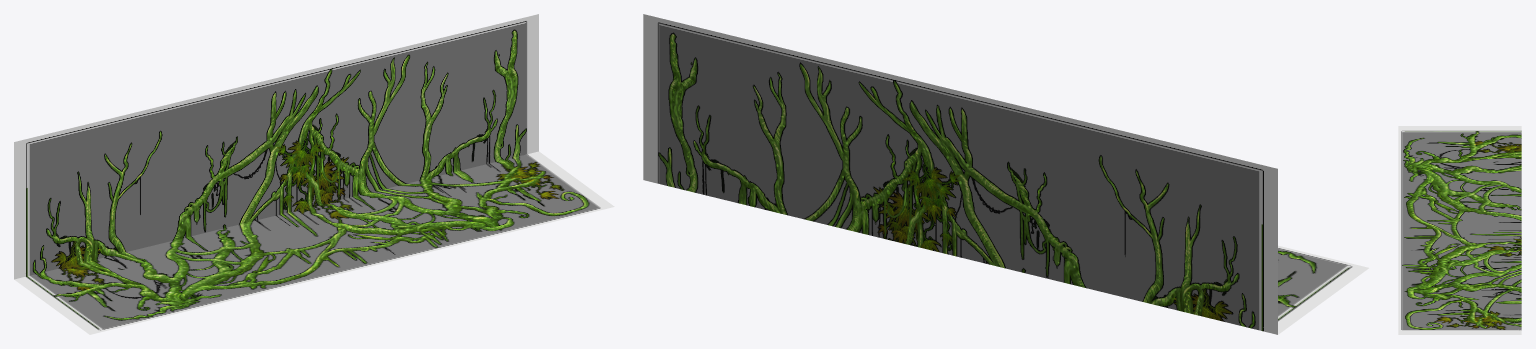
File: Lianas_Walls_2048x1024.fbx
3 views of the same model, side by side, from view 1: azimuth 30°, elevation 25°; view 2: azimuth 150°, elevation 25°; view 3: azimuth 270°, elevation 25° (orthographic). The views are drawn at different scales.
Parts seen in each view (by area): view 1: Lianas_Walls_2048x1024; view 2: Lianas_Walls_2048x1024; view 3: Lianas_Walls_2048x1024.
Boxes of the visible parts, x1,y1,x2,y2 form: Lianas_Walls_2048x1024: (14,14,614,334); Lianas_Walls_2048x1024: (643,14,1368,334); Lianas_Walls_2048x1024: (1398,126,1521,334).
Bounding box in the file's own units: 2048 × 512 × 512.
1 material, 1 textured.
